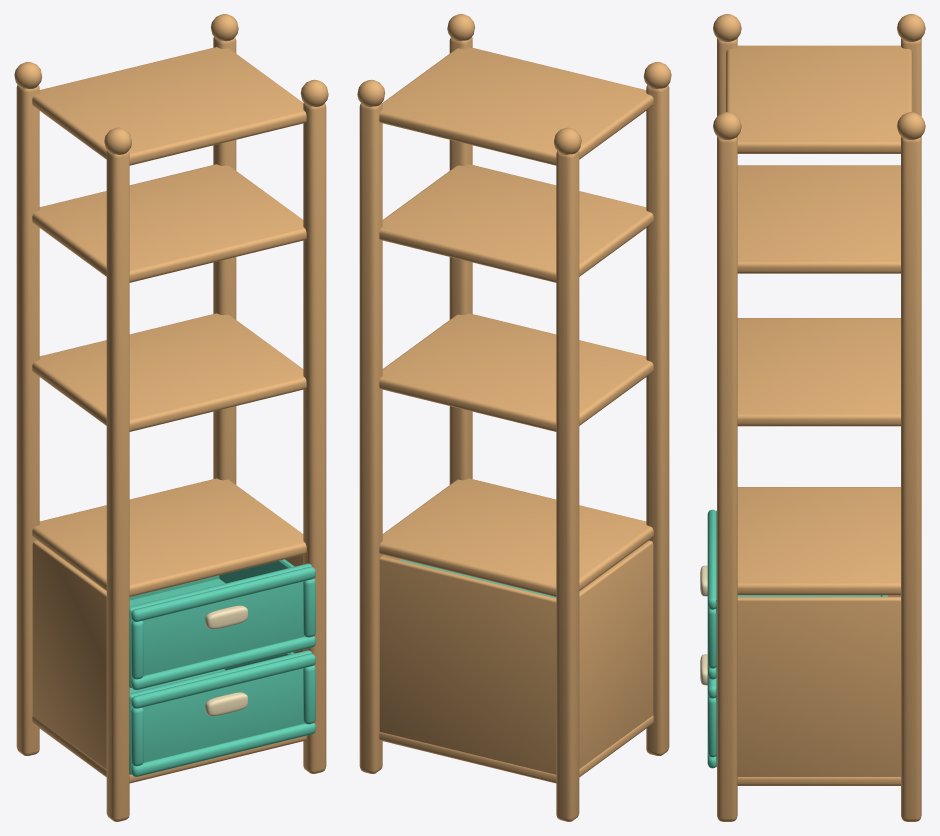
The model's file is estante_cestos_madeira.glb.
3 renders of one model, left to right at view 1: azimuth 30°, elevation 25°; view 2: azimuth 150°, elevation 25°; view 3: azimuth 270°, elevation 25°, orthographic. The views are drawn at different scales.
Visible parts, largest first — view 1: estante_cestos_madeira, gaveta_2, gaveta_1; view 2: estante_cestos_madeira; view 3: estante_cestos_madeira, gaveta_2, gaveta_1.
Part boxes in pixels (box(x1,y1,x2,y2)): estante_cestos_madeira: box(14, 14, 328, 821); gaveta_2: box(129, 559, 315, 689); gaveta_1: box(129, 650, 315, 776); estante_cestos_madeira: box(357, 14, 671, 821); estante_cestos_madeira: box(713, 14, 925, 821); gaveta_2: box(700, 509, 887, 679); gaveta_1: box(700, 654, 716, 768).
Bounding box in the file's own units: 0.4328 × 1.3 × 0.375.
1 material, 1 textured.
